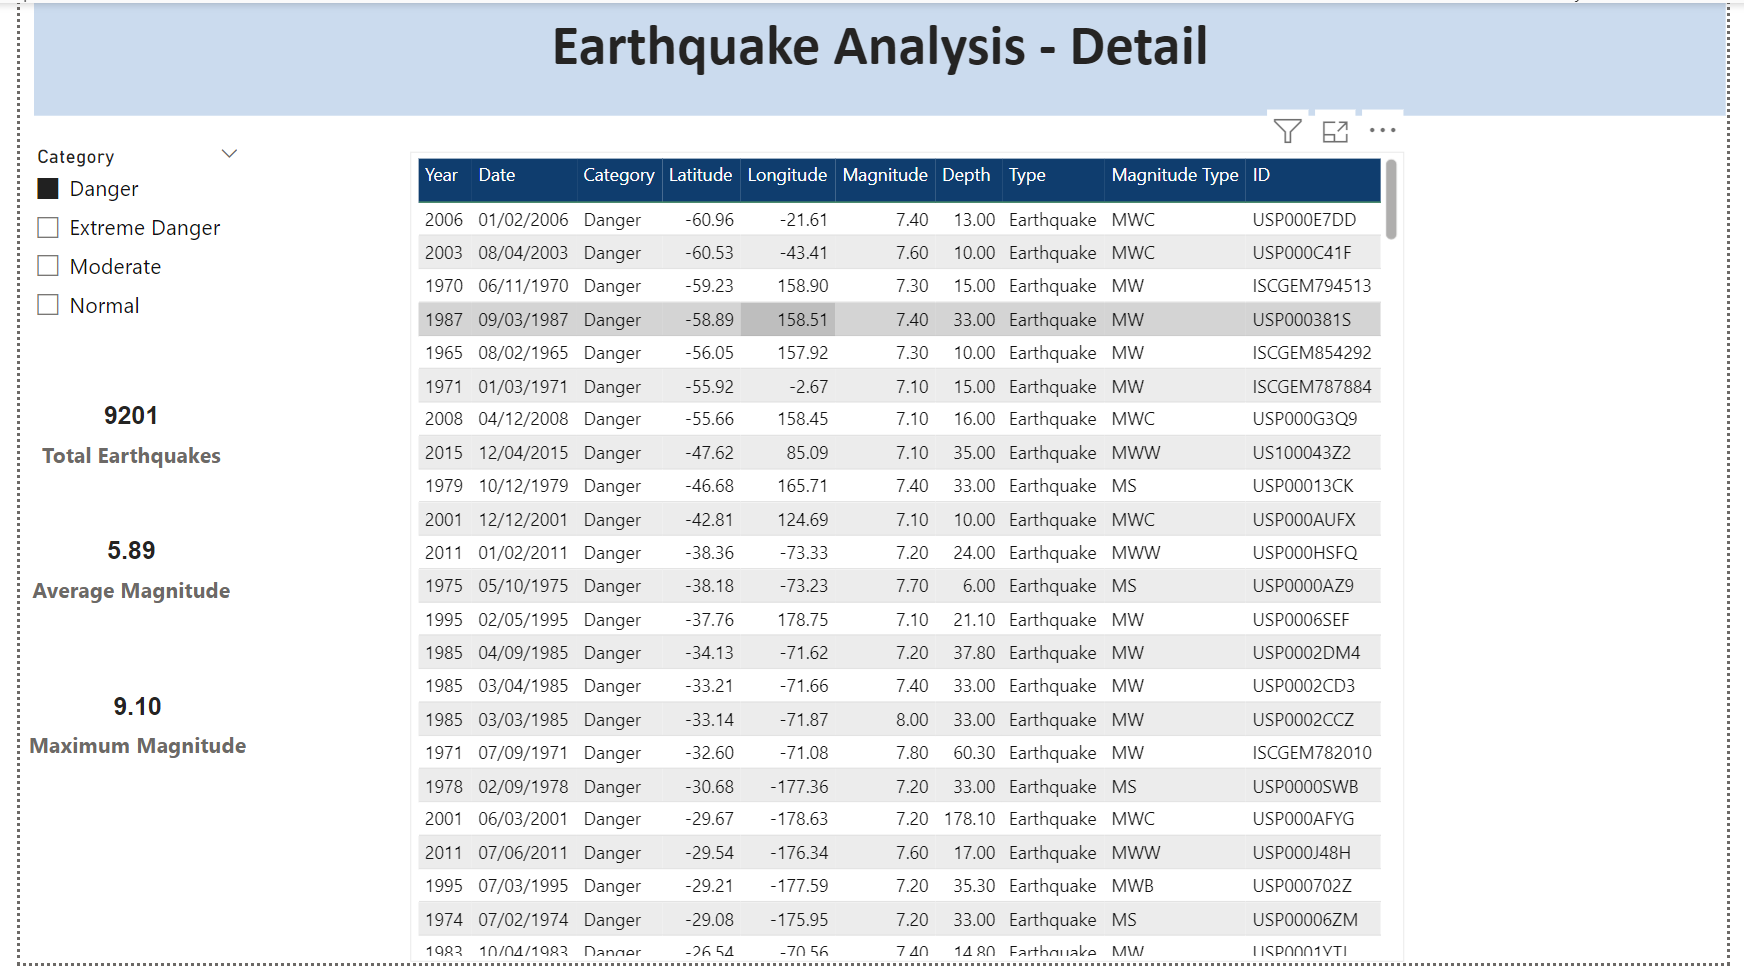

This screenshot's page, from the dashboard's own definition file:
{"tool":"powerbi","page":{"name":"Earthquake Detail","canvas":[1280,720],"ordinal":1},"visuals":[{"type":"textbox","box":[10.4,0,1269.4,84.7],"z":0},{"type":"card","fields":{"Values":["quakes.Count of Earthquake"]},"box":[0,282.3,166.7,77.5],"z":1000},{"type":"card","fields":{"Values":["quake_freq.Average mag"]},"box":[0,383.4,166.7,77.5],"z":2000},{"type":"card","fields":{"Values":["quake_freq.Maximum mag"]},"box":[0,500.2,175.9,77.5],"z":3000},{"type":"slicer","fields":{"Values":["quakes.Category"]},"box":[0,101.1,175.9,149.7],"z":4000},{"type":"tableEx","fields":{"Values":["quakes.Year","quakes.Date","quakes.Category","quakes.Latitude","quakes.Longitude","quakes.Magnitude","quakes.Depth","quakes.Type","quakes.Magnitude Type","quakes.ID"]},"box":[292.8,111.6,745.7,607.9],"z":5000}]}

Visuals, with their boxes in screenshot pixels (x1, y1, x2, y2), scaled from the page's 1280x720 canvas onto the 1744x966 screenshot:
textbox: crop(14, 0, 1743, 114)
card - quakes.Count of Earthquake: crop(0, 379, 227, 483)
card - quake_freq.Average mag: crop(0, 514, 227, 618)
card - quake_freq.Maximum mag: crop(0, 671, 240, 775)
slicer - quakes.Category: crop(0, 136, 240, 336)
tableEx - quakes.Year x quakes.Date: crop(399, 150, 1415, 965)
